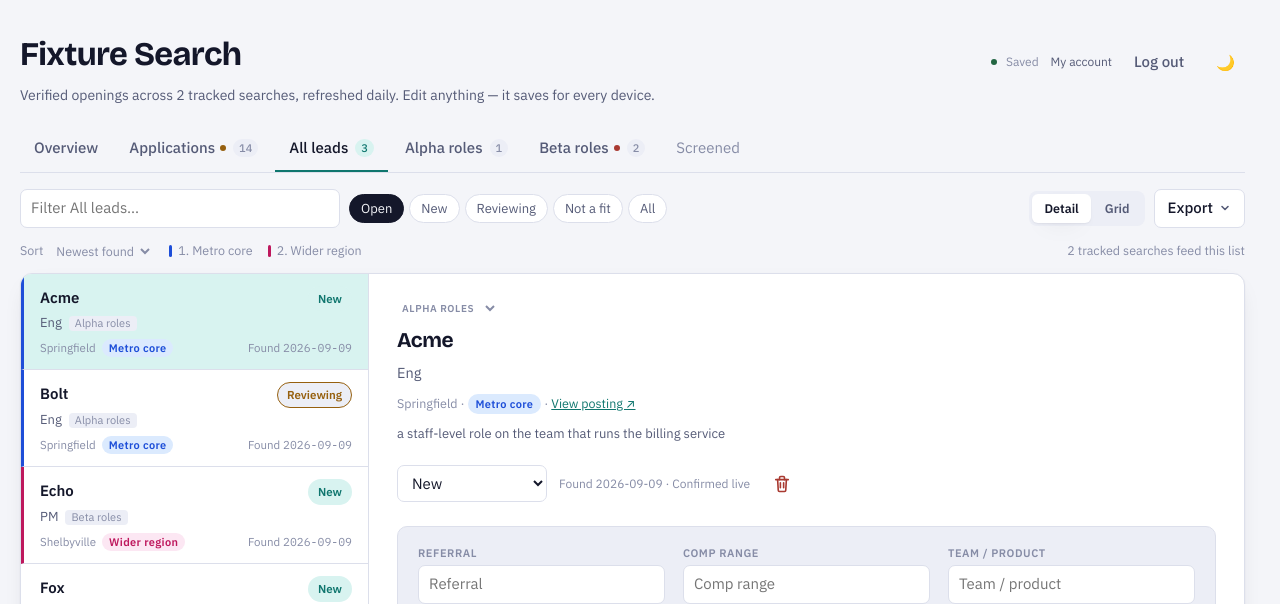
Test: lead status › takes the application the server creates when a lead is marked Applied
Expected: the heading "Fixture Search" is shown, [20,34,241,74]
Select "Applied" in the dropdown named "Status" at (472,484), box [397,465,547,502]
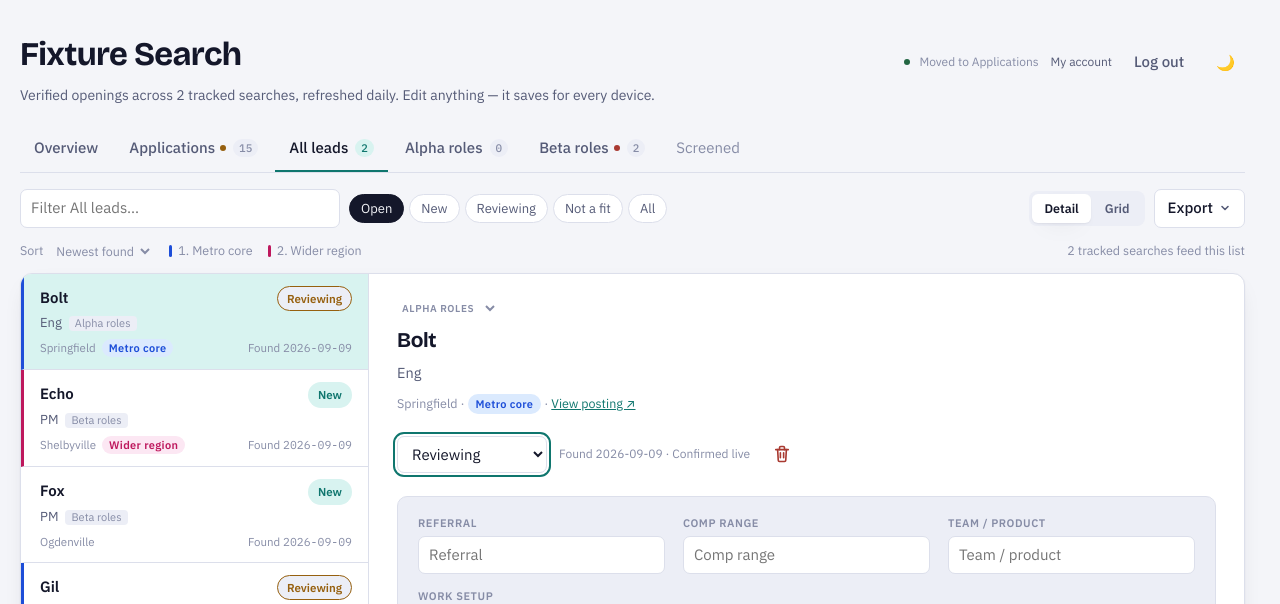
Expected: the message reads "Moved to Applications", [919,54,1039,69]
Expected: the tab "Applications 15" is shown, [129,138,258,157]
